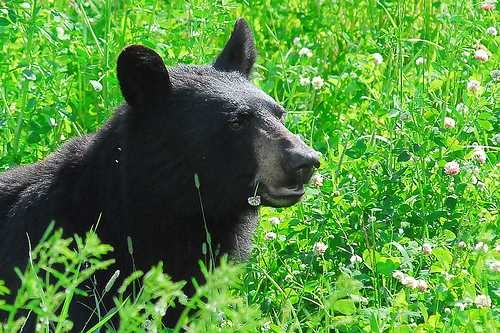bear: (199, 94, 327, 222), (117, 14, 245, 142)
